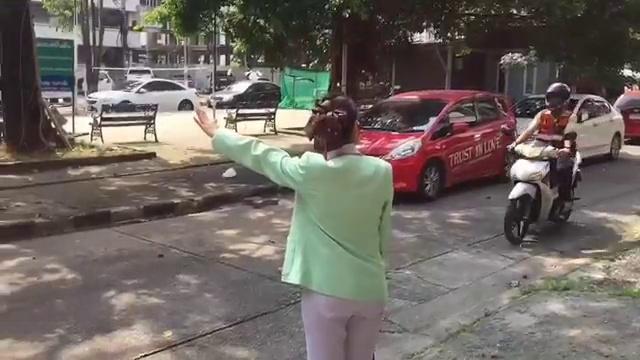helmet: (541, 74, 571, 110)
